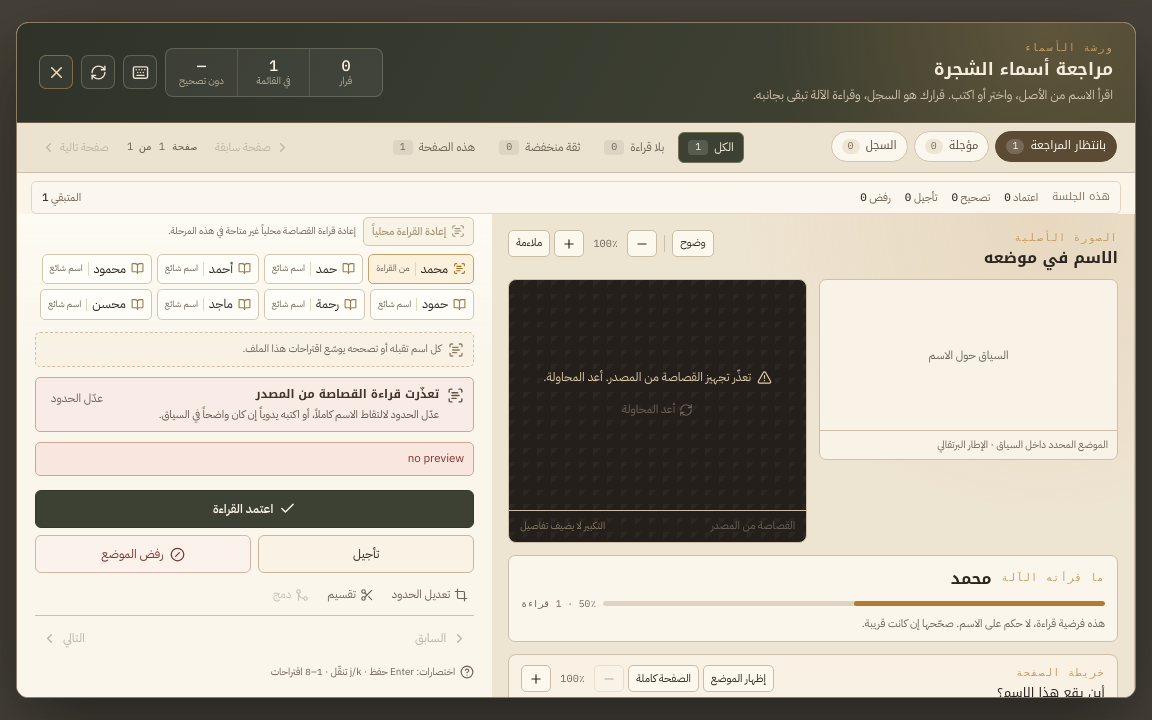
it: previews a region and only persists the geometry the reviewer saw
(page scrolled)
Click the button "تعديل الحدود" at (430, 595), box 386,582 -> 474,607
(page scrolled)
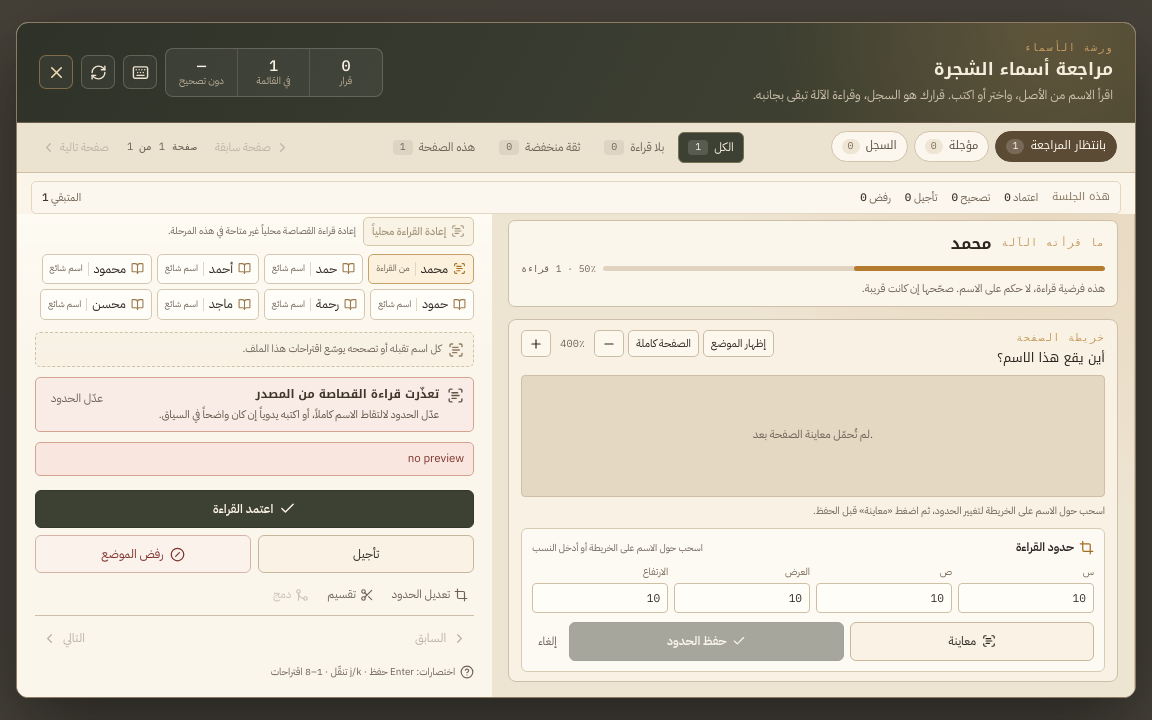
Expected: the text "حدود القراءة" is shown, 1016,539 -> 1094,557
Click the button "معاينة" at (972, 641), box 850,622 -> 1094,660
(page scrolled)
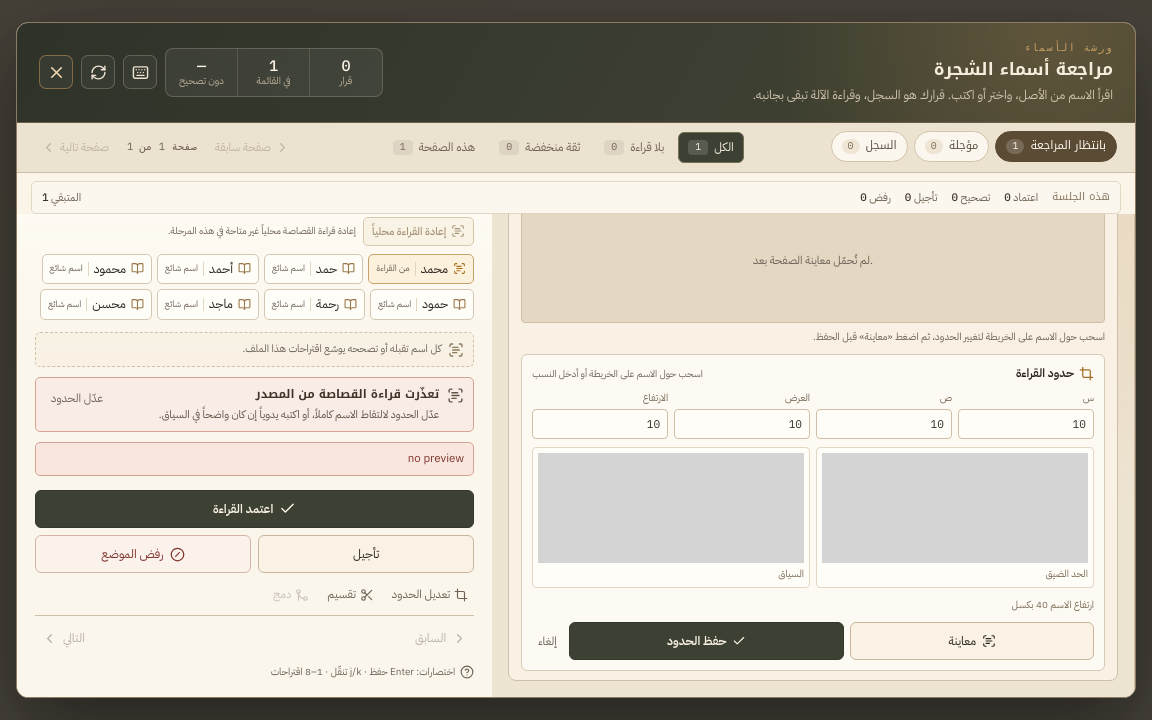
Expected: the button "حفظ الحدود" is enabled
Click the button "حفظ الحدود" at (707, 641), box 569,622 -> 844,660
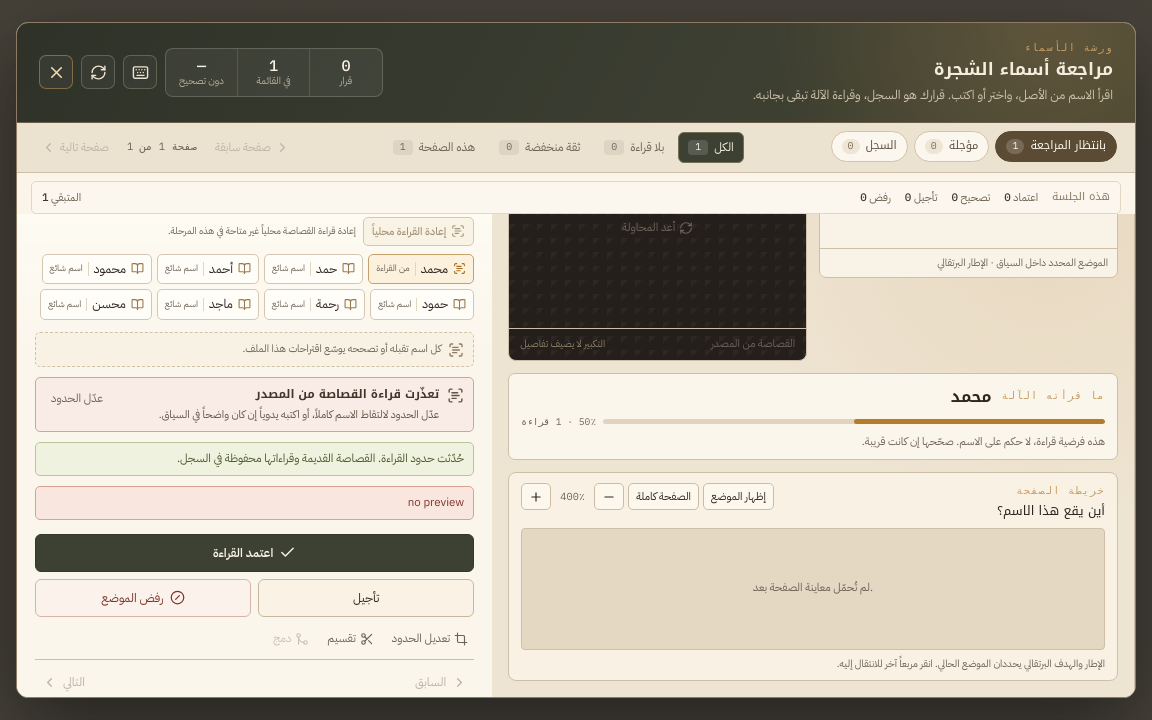
Expected: the text "حُدّثت حدود القراءة" is shown, 177,450 -> 464,467
